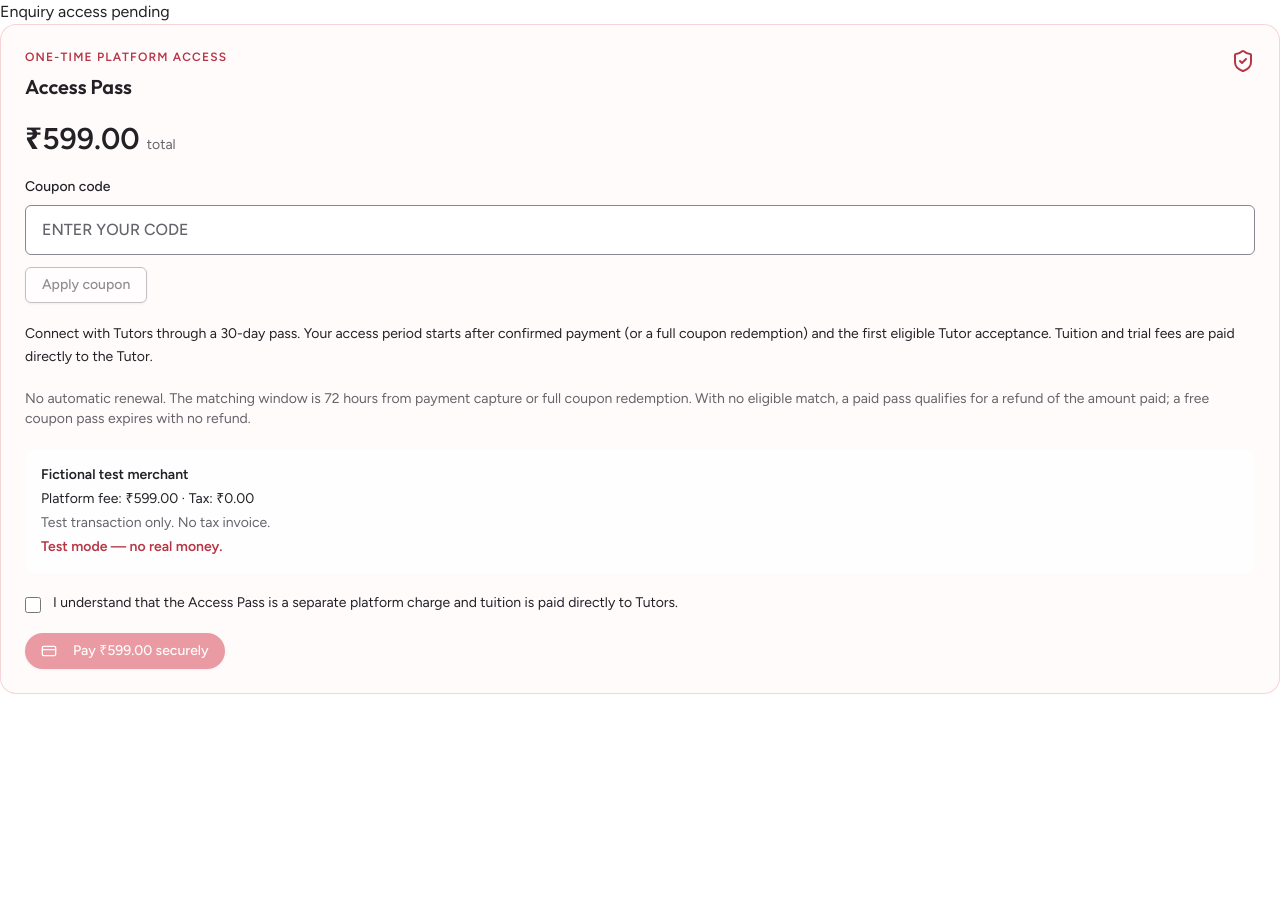
it: refreshes enquiry eligibility when the server confirms capture during the hosted callback
This screenshot has width=1280, height=900.
What coordinates should you click on to do the following:
click the checkbox
I would click on:
 (33, 604)
Its box is left=25, top=596, right=41, bottom=612.
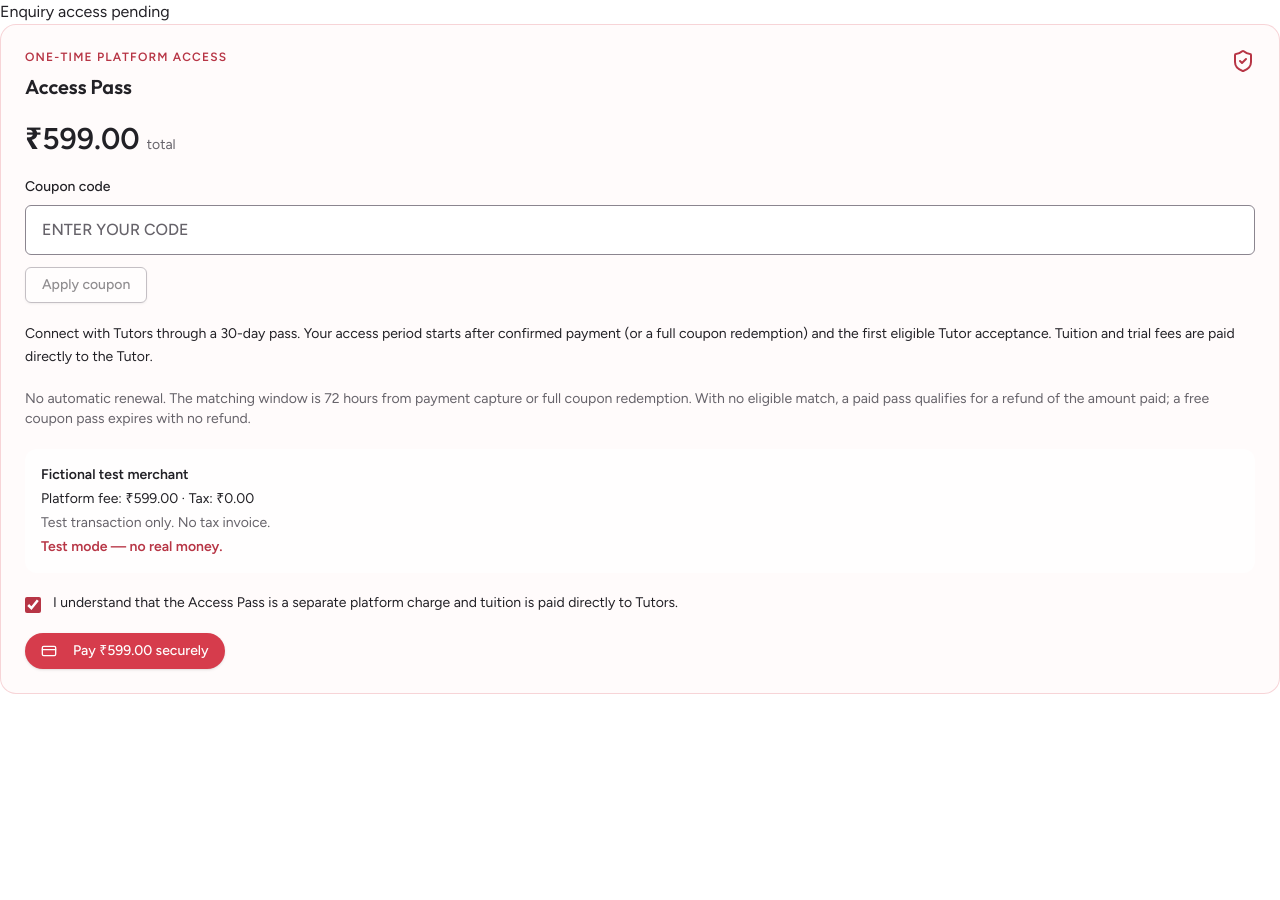
What coordinates should you click on to do the following:
click the button "Pay ₹599.00 securely"
I would click on:
 (125, 650)
Its box is left=25, top=632, right=225, bottom=668.
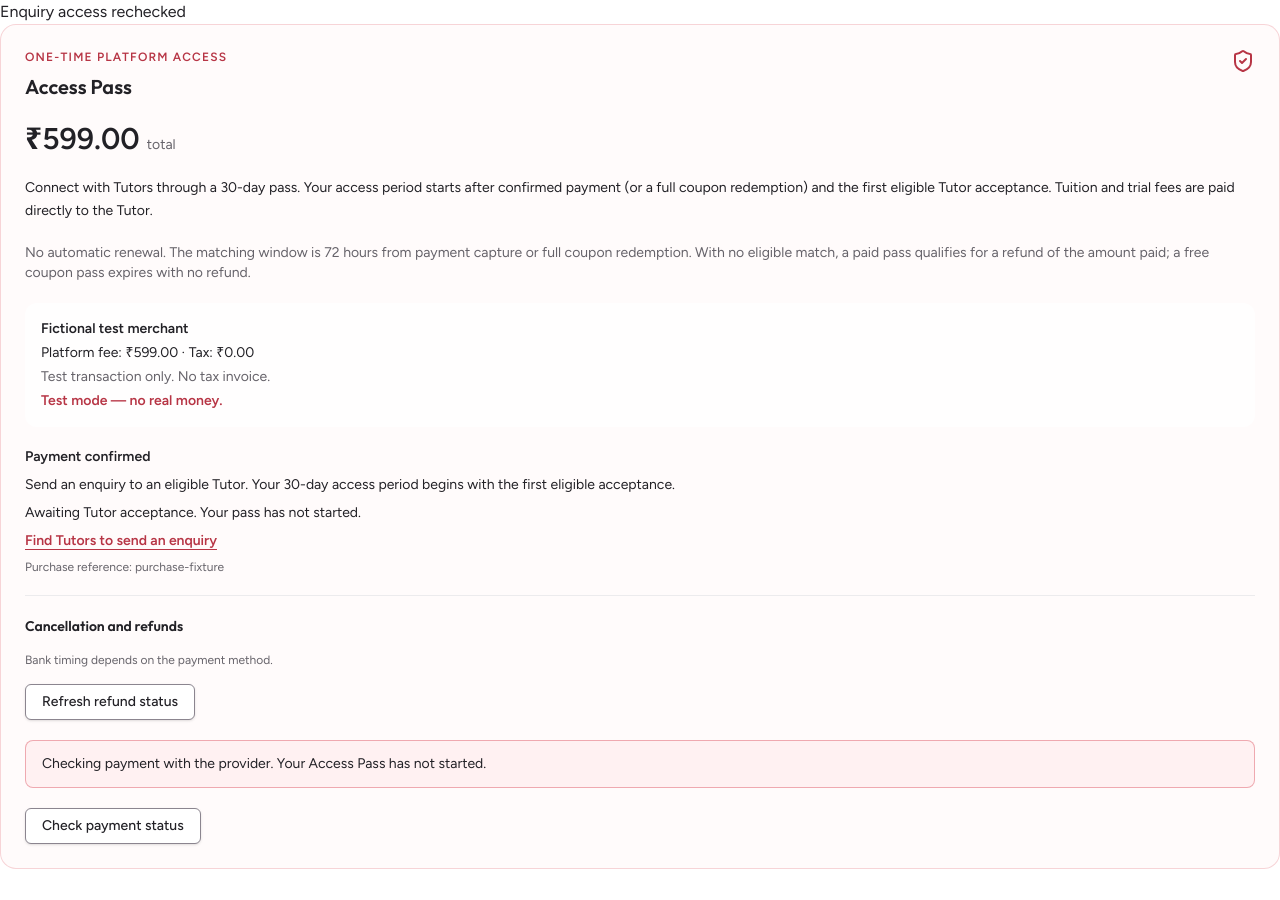
Result: the text "Payment confirmed" is shown at left=25, top=448, right=150, bottom=464
Result: the text "Enquiry access rechecked" is shown at left=0, top=2, right=186, bottom=21
